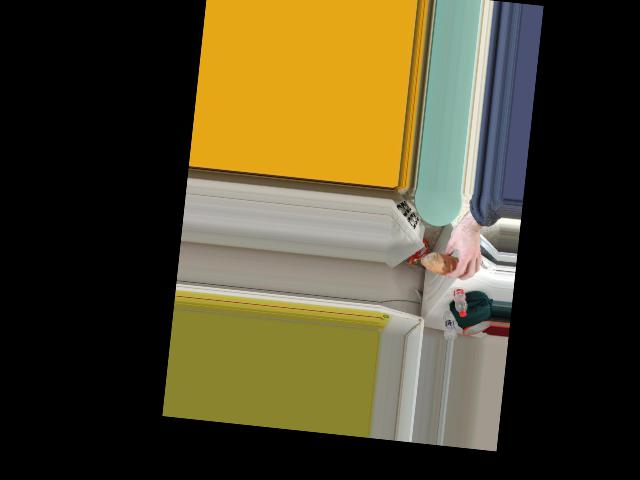sweet_potato: (431, 247, 466, 275)
